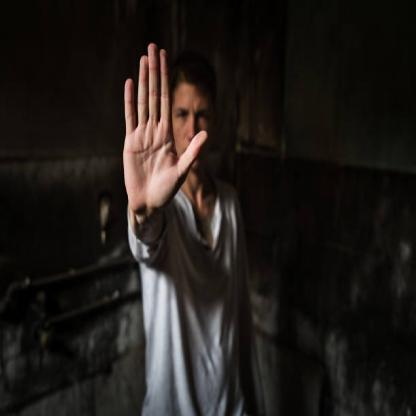stop: (121, 40, 208, 218)
